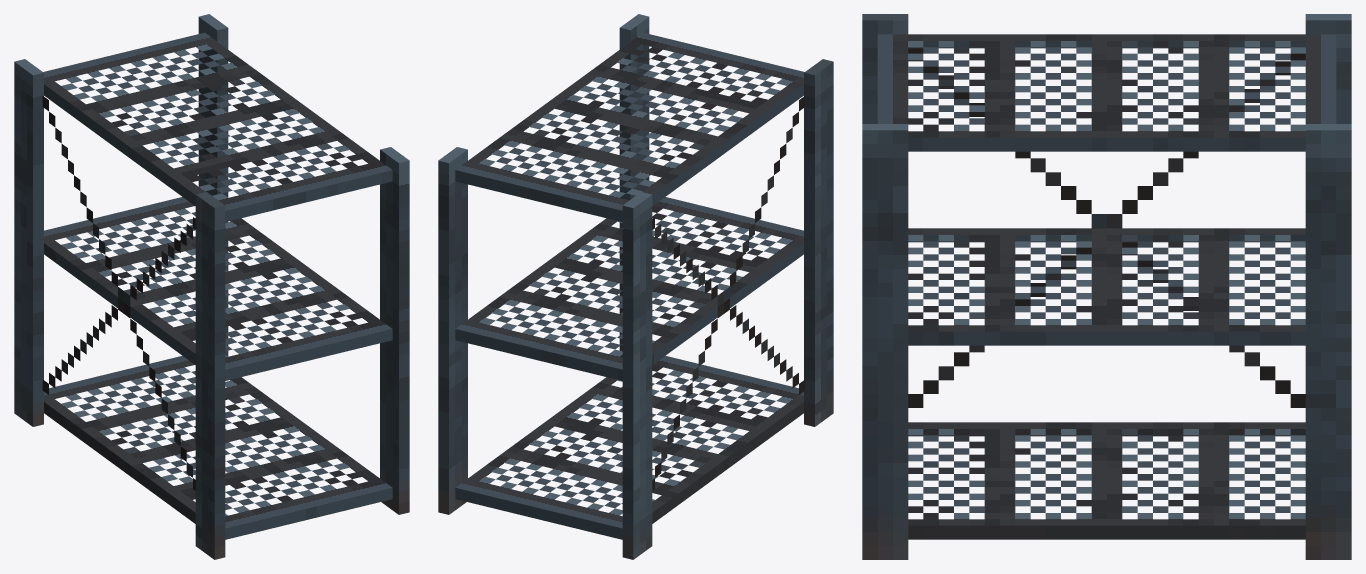
Rendered from StorageShelf.gltf.
3 views of the same model, side by side, from view 1: azimuth 30°, elevation 25°; view 2: azimuth 150°, elevation 25°; view 3: azimuth 270°, elevation 25° (orthographic). The views are drawn at different scales.
Visible parts, largest first — view 1: ShelfFloor (×3), Leg (×4), Backbrace; view 2: ShelfFloor (×3), Leg (×4), Backbrace; view 3: ShelfFloor (×3), Leg (×4), Backbrace.
Part boxes in pixels (x1=…): ShelfFloor (×3): x1=43, y1=32, x2=392, y2=539; Leg (×4): x1=14, y1=14, x2=409, y2=559; Backbrace: x1=42, y1=96, x2=195, y2=490; ShelfFloor (×3): x1=455, y1=32, x2=804, y2=539; Leg (×4): x1=438, y1=14, x2=833, y2=559; Backbrace: x1=652, y1=96, x2=805, y2=490; ShelfFloor (×3): x1=877, y1=34, x2=1336, y2=539; Leg (×4): x1=862, y1=14, x2=1351, y2=559; Backbrace: x1=908, y1=48, x2=1305, y2=407.
Size of the model in its own units: 1.12 by 1.94 by 2.
1 material, 1 textured.
